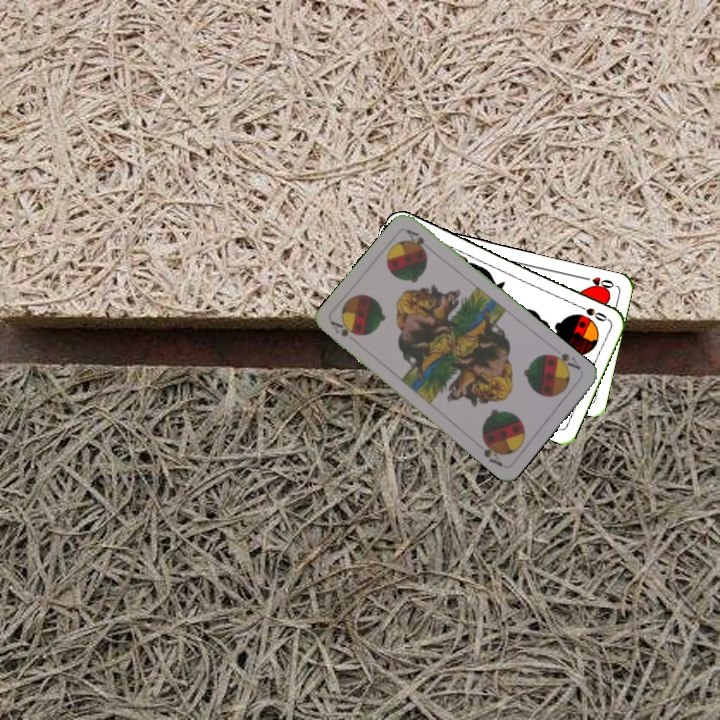HO: (577, 272, 616, 291)
SA: (327, 317, 362, 347), (546, 349, 583, 374)
SO: (572, 300, 610, 324)
